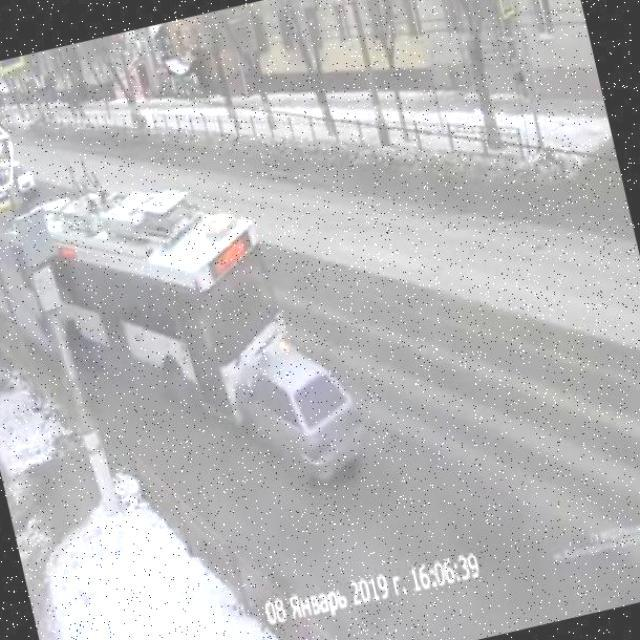accident: (135, 257, 400, 520)
